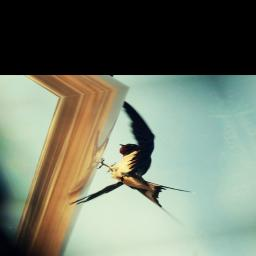Swallow: (24, 96, 209, 240)
